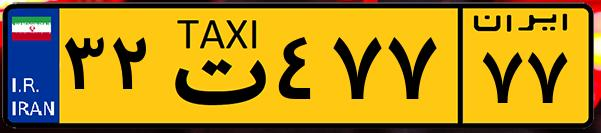2: (110, 28, 158, 98)
3: (57, 26, 110, 100)
4: (270, 28, 330, 110)
7: (385, 28, 445, 110), (330, 28, 385, 110), (475, 38, 525, 113), (525, 38, 570, 115)
ت: (158, 12, 270, 120)
